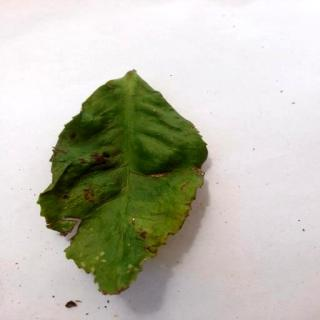Algal Leaf: (41, 67, 209, 296)
